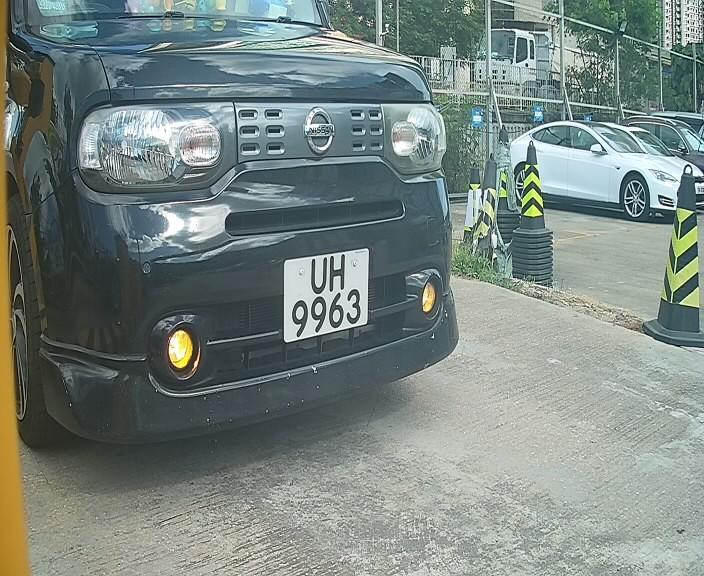License Plate: (277, 240, 378, 348)
